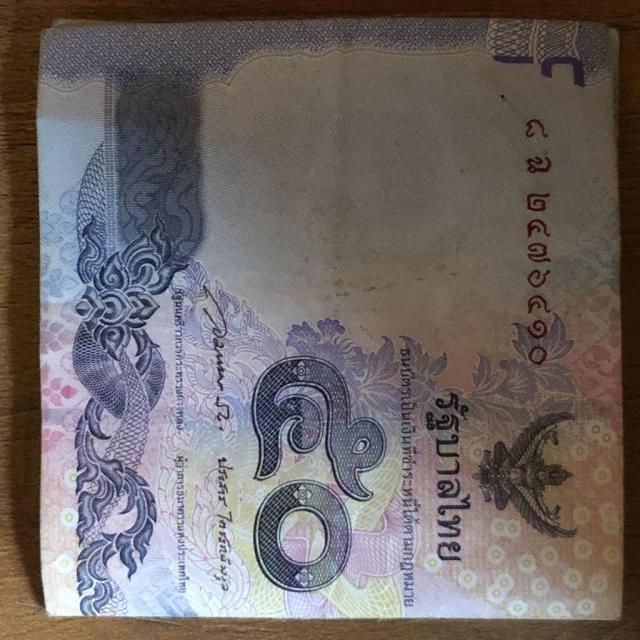THAI50: (37, 18, 622, 619)
